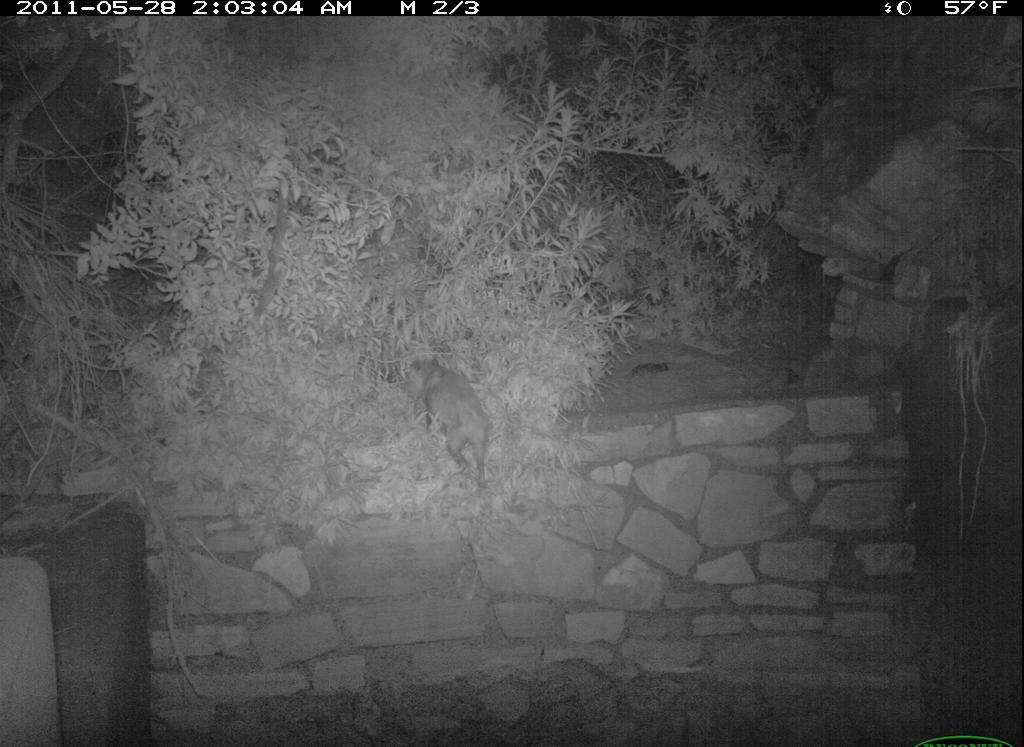opossum: (397, 355, 498, 513)
